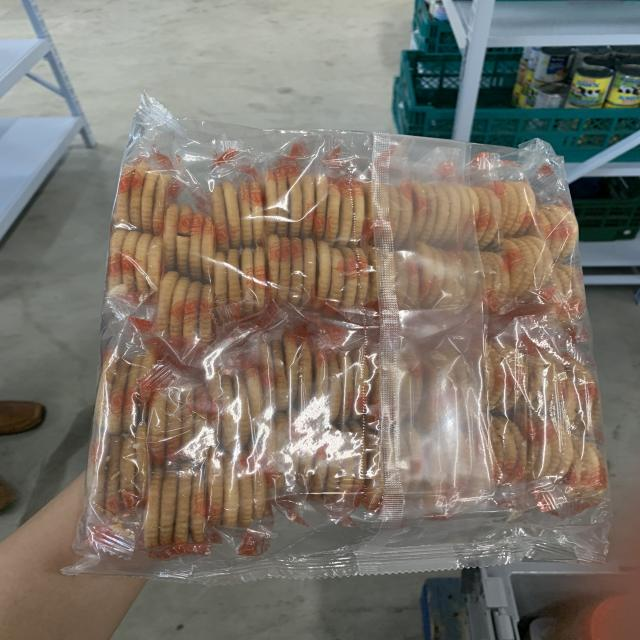object_name: (114, 127, 585, 562)
